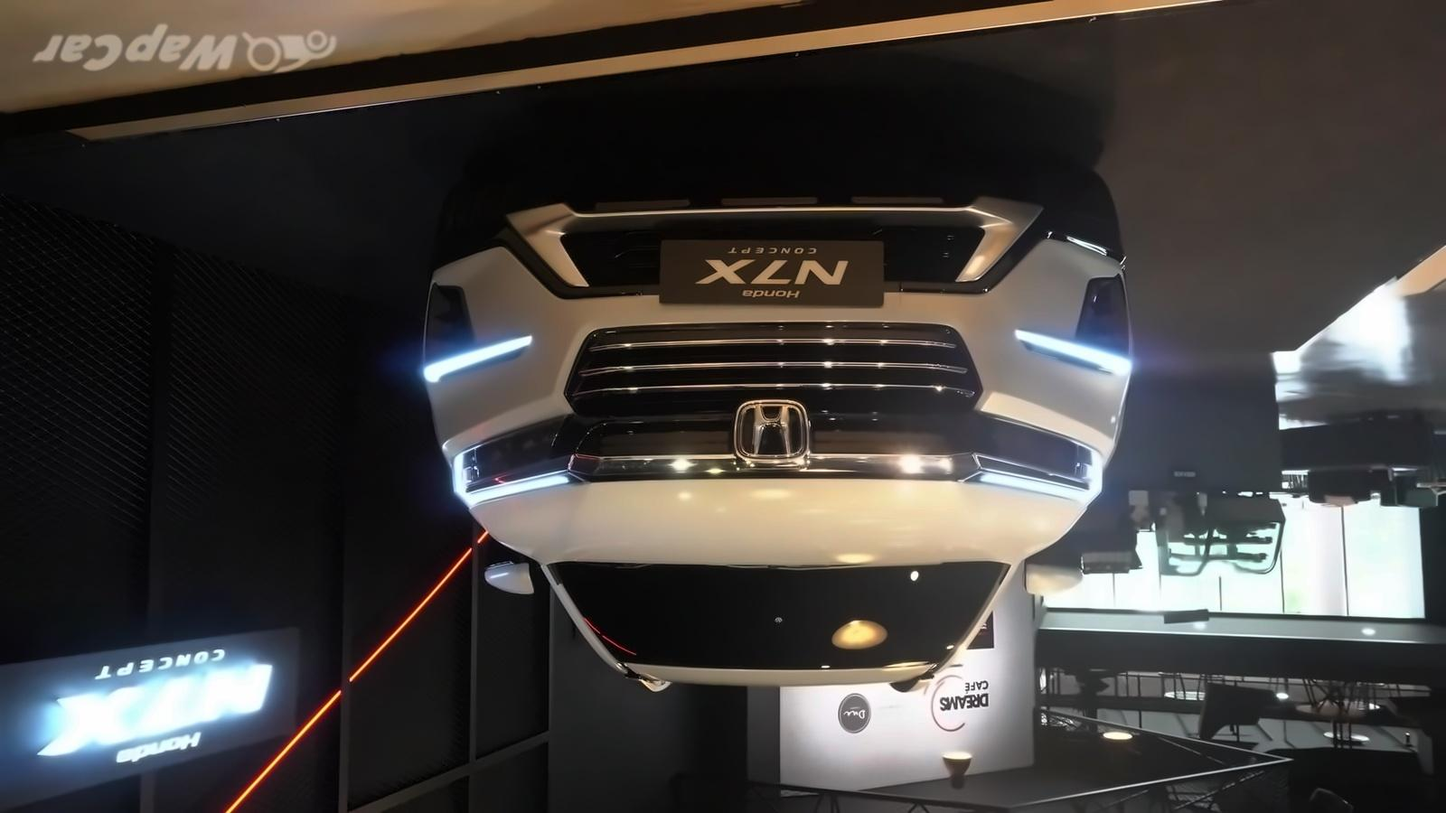Car hood: (467, 476, 1090, 573)
Front bumper: (410, 189, 1140, 451)
Headlight - -L-: (445, 431, 589, 512)
Headlight - -R-: (954, 439, 1109, 508)
Side mirror - -L-: (476, 553, 550, 599)
Side mirror - -R-: (1007, 550, 1089, 599)
